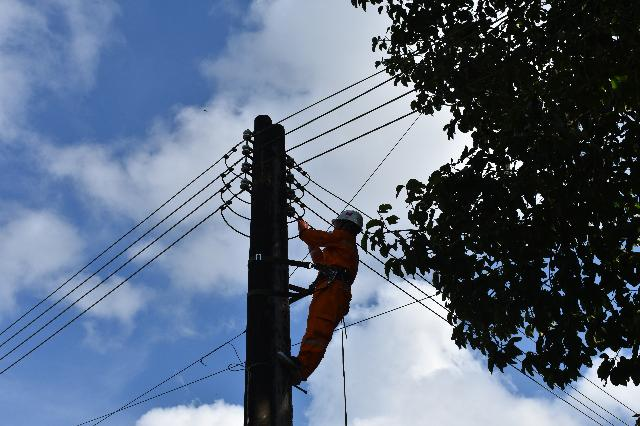gloves: (295, 215, 309, 238)
harness: (306, 252, 364, 293)
helmet: (329, 204, 373, 232)
shoes: (275, 345, 314, 389)
